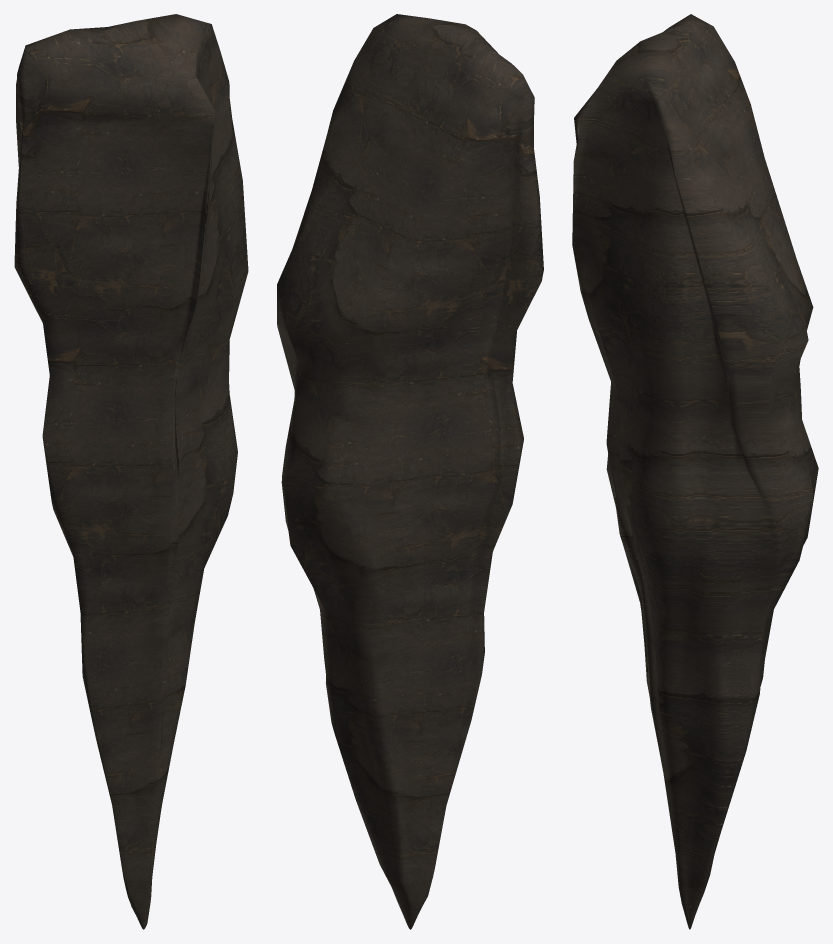
The model's file is cliff_fang_a_lod1.gltf.
3 views of the same model, side by side, from view 1: azimuth 30°, elevation 25°; view 2: azimuth 150°, elevation 25°; view 3: azimuth 270°, elevation 25° (orthographic). The views are drawn at different scales.
Parts seen in each view (by area): view 1: cliff_fang_a_LOD1; view 2: cliff_fang_a_LOD1; view 3: cliff_fang_a_LOD1.
Boxes of the visible parts, x1,y1,x2,y2 form: cliff_fang_a_LOD1: [14, 14, 248, 929]; cliff_fang_a_LOD1: [277, 14, 543, 929]; cliff_fang_a_LOD1: [572, 14, 818, 929].
Bounding box in the file's own units: 7.95 × 30 × 7.65.
Materials: 1 (1 with a texture image).
